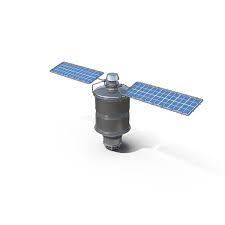body: (90, 69, 133, 153)
solar: (122, 79, 205, 119), (47, 59, 106, 87)
